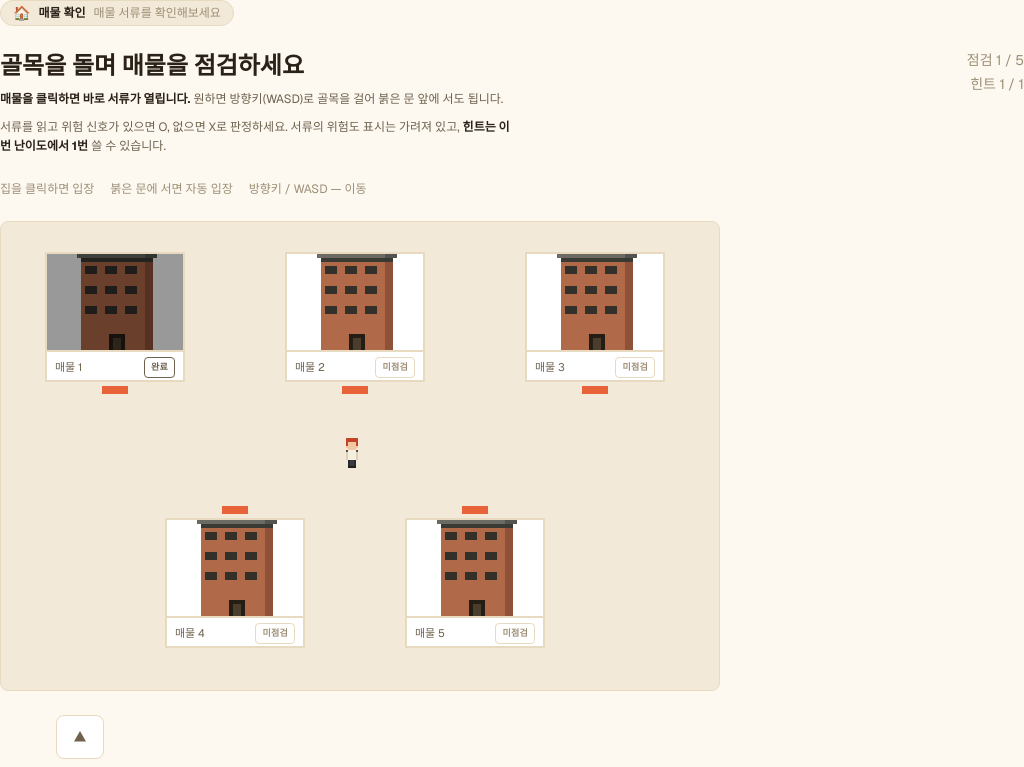
MapBoard › 완료된 매물을 다시 클릭하면 내 판정과 서류 8항목을 다시 볼 수 있다
The width and height of the screenshot is (1024, 767).
Step 1. Click the button "매물 1 완료" → (115, 316), box [45,252,185,382]
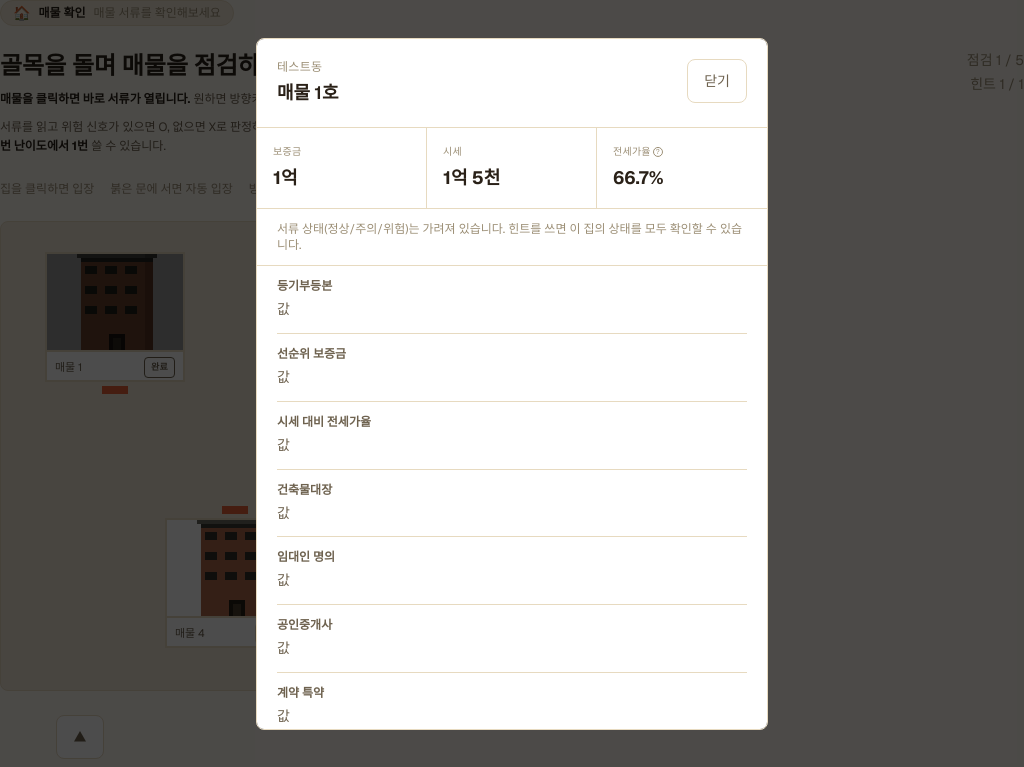
Check: the text "등기부등본" is shown, box [277,278,332,294]
